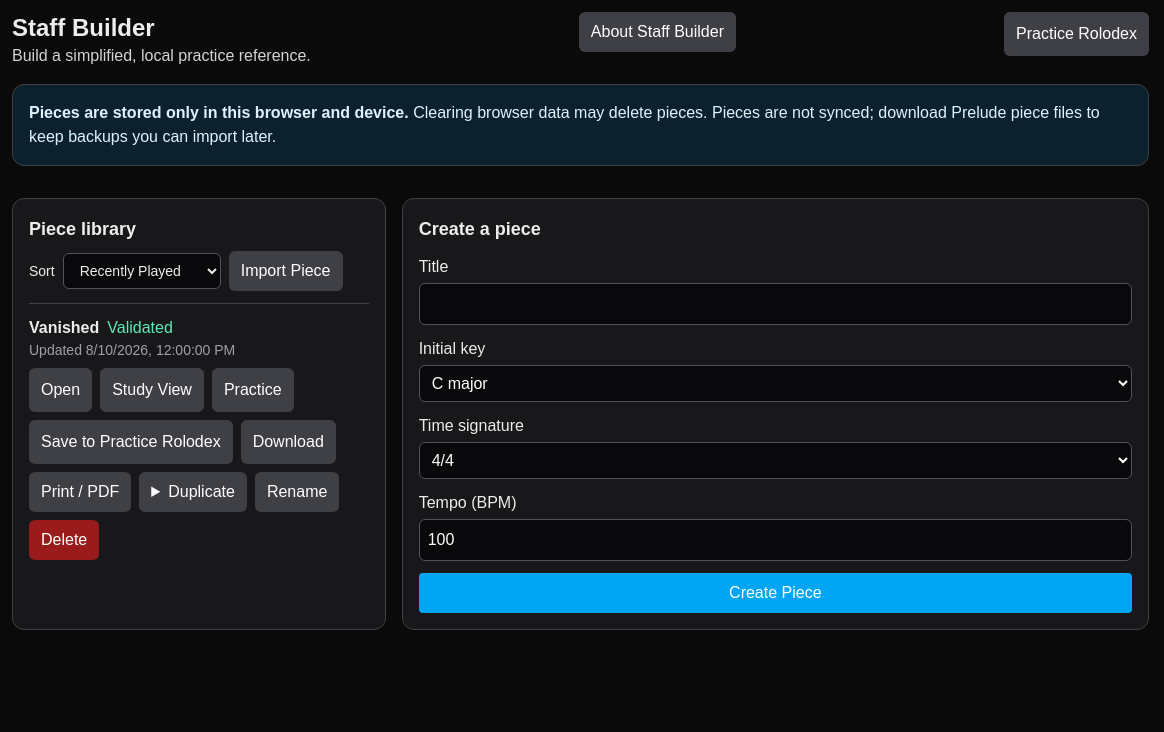
Test: Staff Builder library Study View and editing lock › reports a deleted saved piece at click time without opening an editor or writing storage
Click the button with aria-label "Study View Vanished" at (152, 390), box [100,368,204,412]
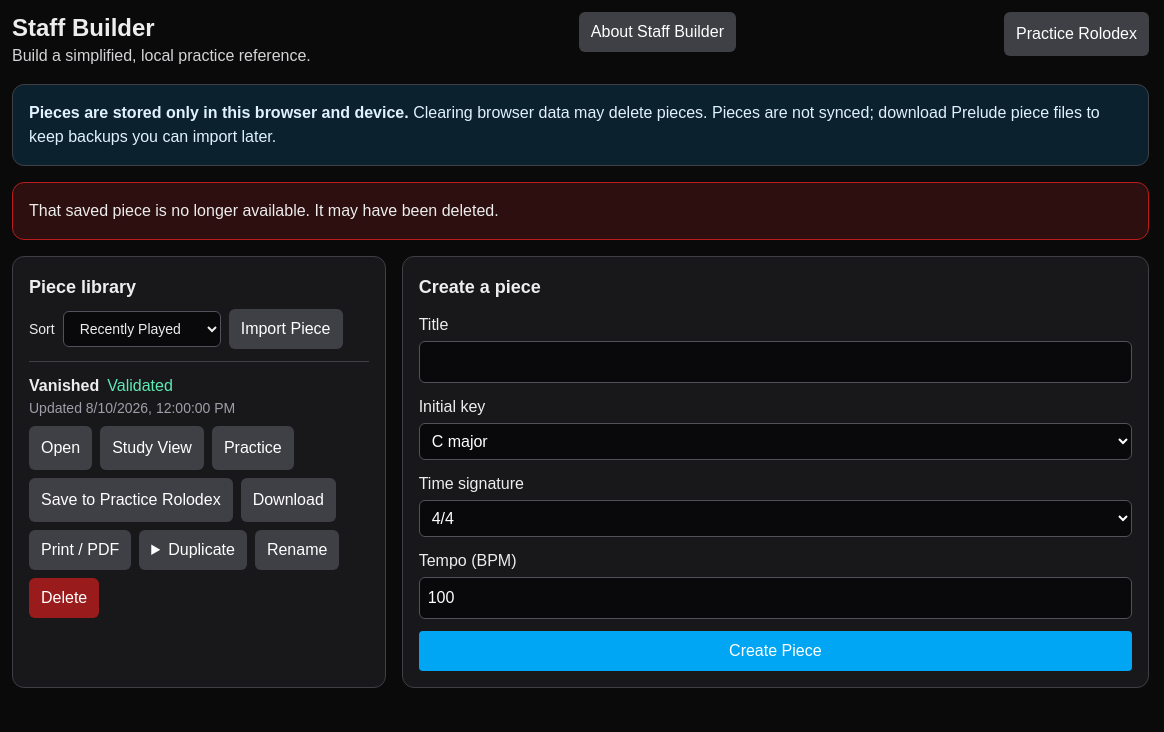
Check: the message reads "That saved piece is no longer available. It may have been deleted.", box [29,202,499,219]
